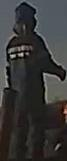gloves: (56, 64, 67, 85)
vest: (5, 34, 45, 98)
